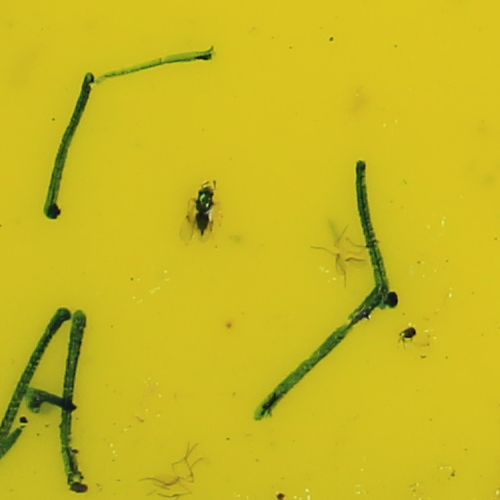wasp: (186, 180, 223, 235)
